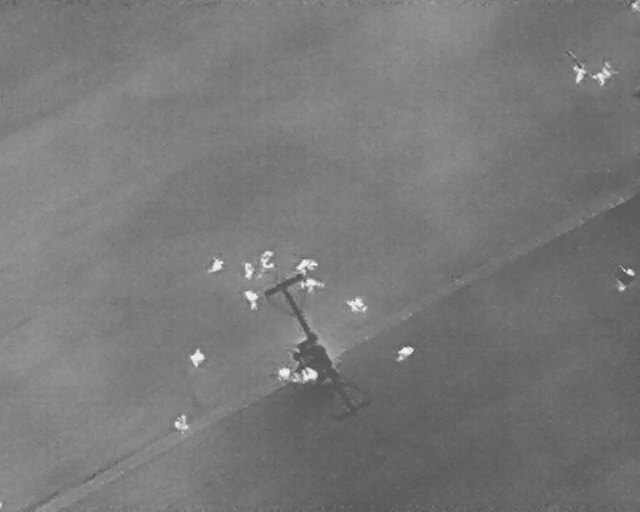Person: (609, 260, 639, 296), (591, 62, 616, 87), (392, 340, 418, 364), (568, 59, 589, 86), (296, 255, 320, 275), (346, 296, 368, 315), (260, 248, 276, 272), (299, 278, 323, 292), (241, 291, 259, 309), (173, 415, 188, 433), (301, 368, 318, 383), (191, 347, 203, 368), (208, 257, 223, 273), (275, 366, 290, 382), (242, 261, 254, 280)
